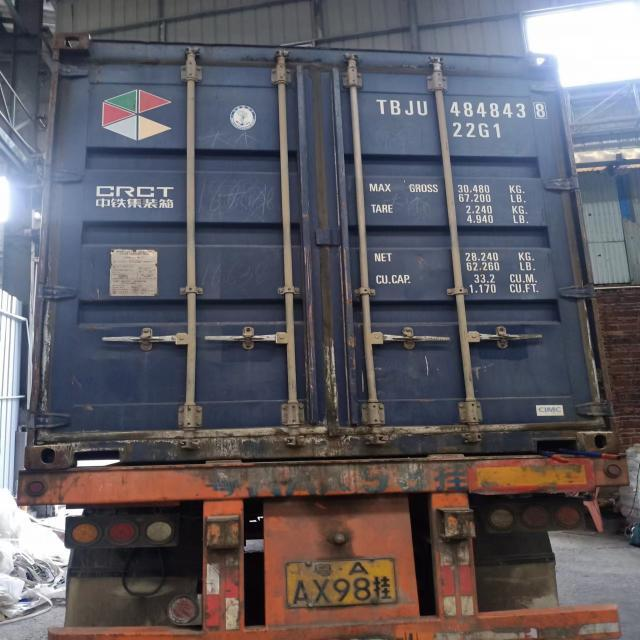ISO: (456, 122, 504, 140)
container_number: (382, 102, 548, 118)
